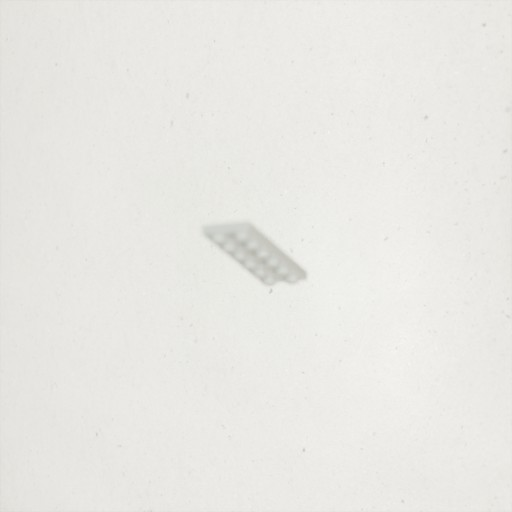lego: (201, 220, 308, 287)
